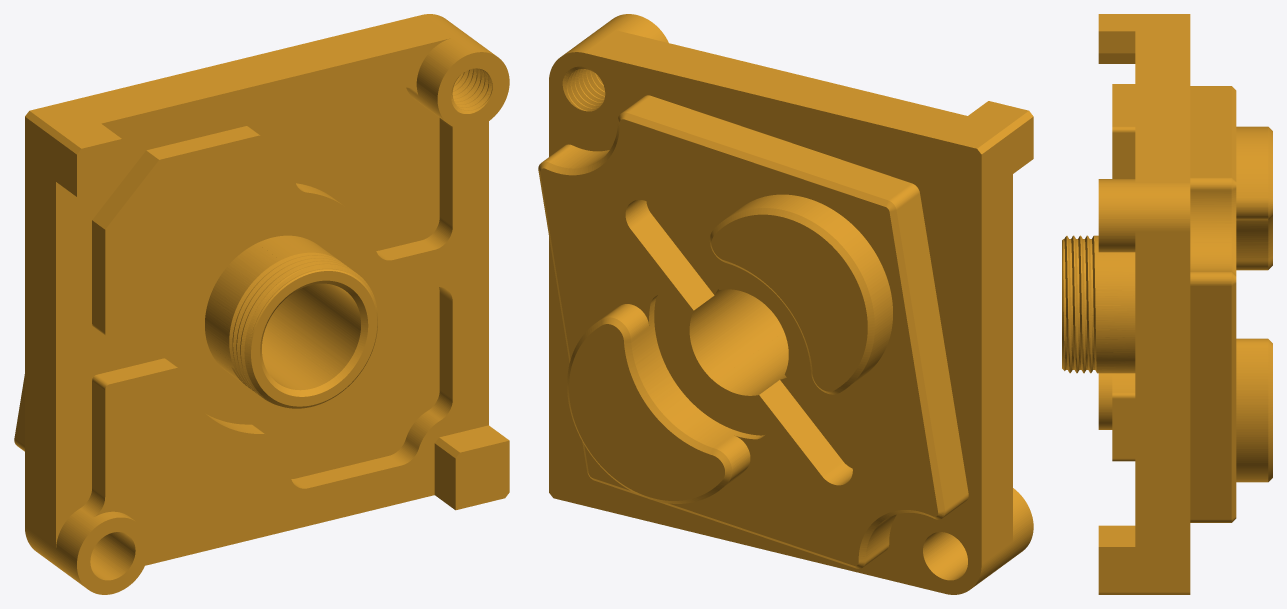
The picture shows the model from 3 angles, left to right: view 1: azimuth 30°, elevation 25°; view 2: azimuth 150°, elevation 25°; view 3: azimuth 270°, elevation 25°; orthographic projection. The views are drawn at different scales.
Bounding box in the file's own units: 96 × 96 × 46.
